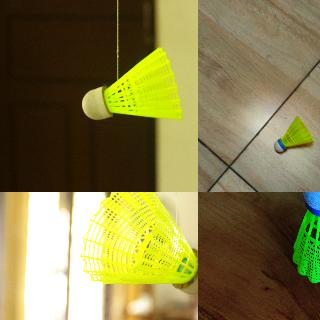shuttlecock: (80, 192, 197, 296), (82, 48, 182, 119), (292, 192, 319, 287), (274, 115, 314, 151)
